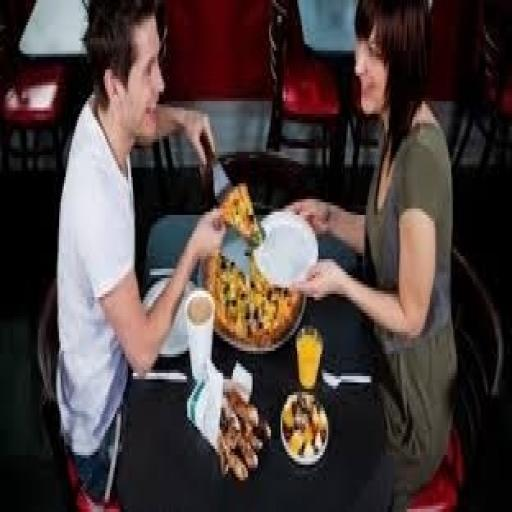eating: (51, 3, 461, 503)
